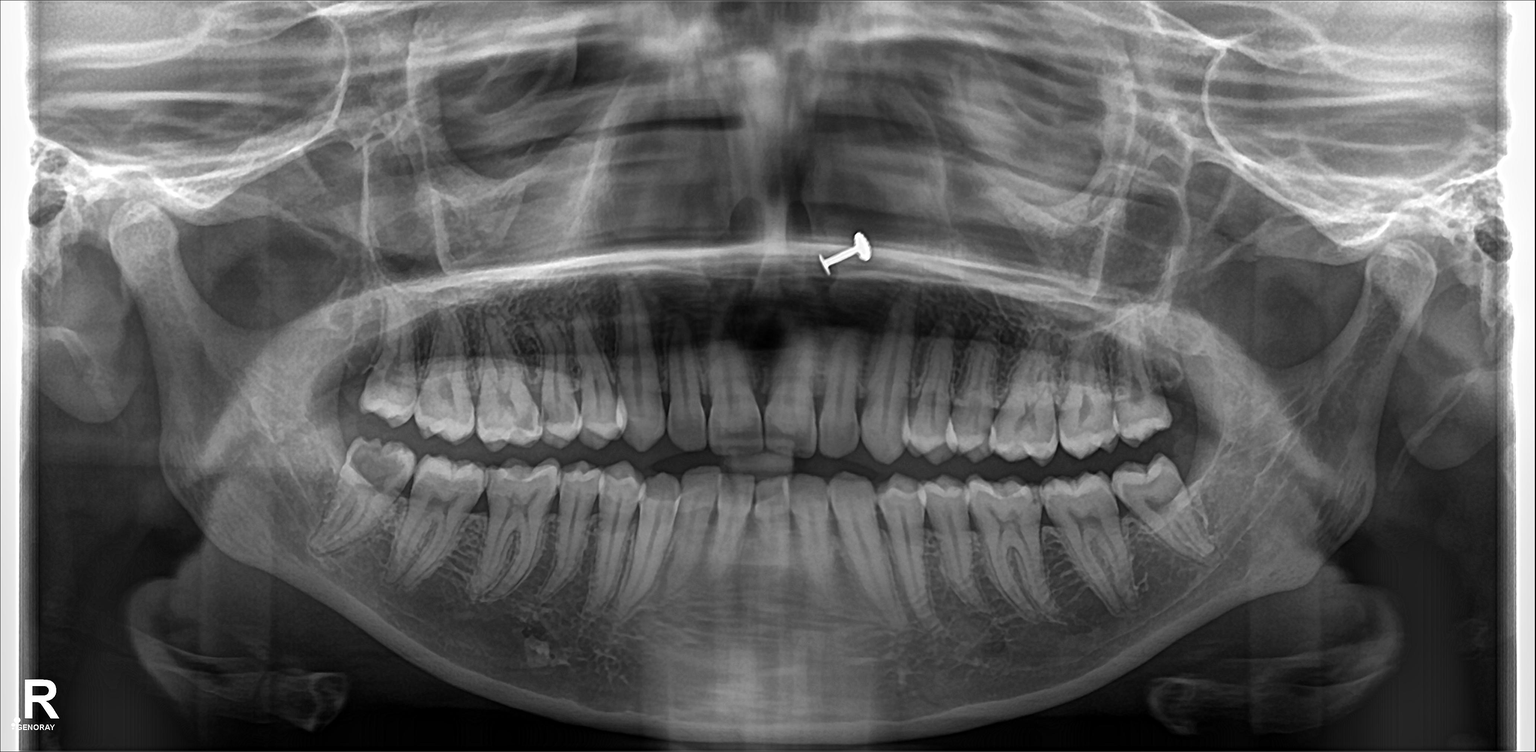Dental Caries: (354, 443, 410, 489)
Missing Tooth: (1164, 315, 1211, 423), (317, 322, 372, 414)
